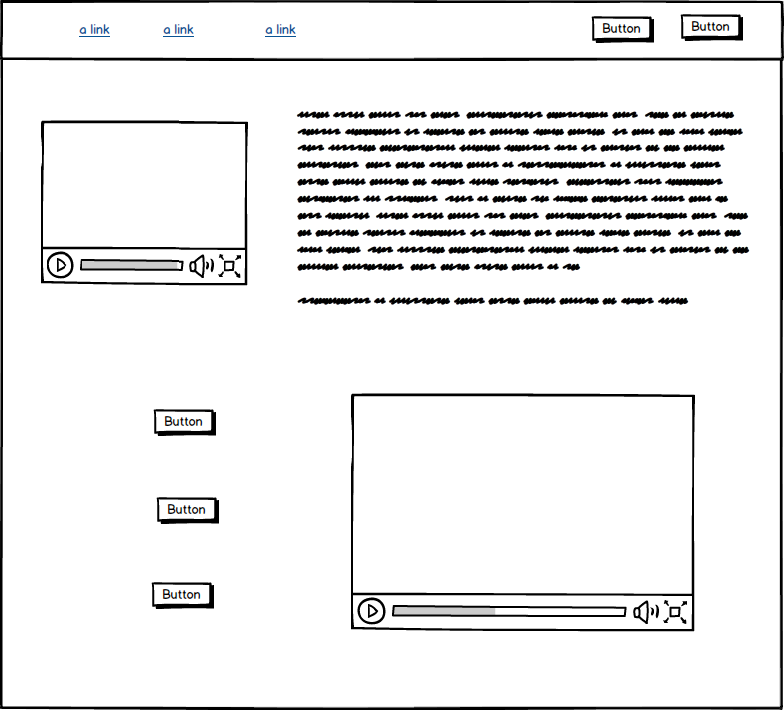button: (151, 491, 223, 529), (145, 576, 220, 612), (144, 405, 221, 440), (675, 10, 751, 45), (588, 12, 661, 46)
navlink: (262, 17, 299, 46), (156, 18, 197, 42), (73, 22, 119, 40)
p: (292, 108, 758, 309)
video: (342, 388, 704, 639), (36, 110, 254, 289)
